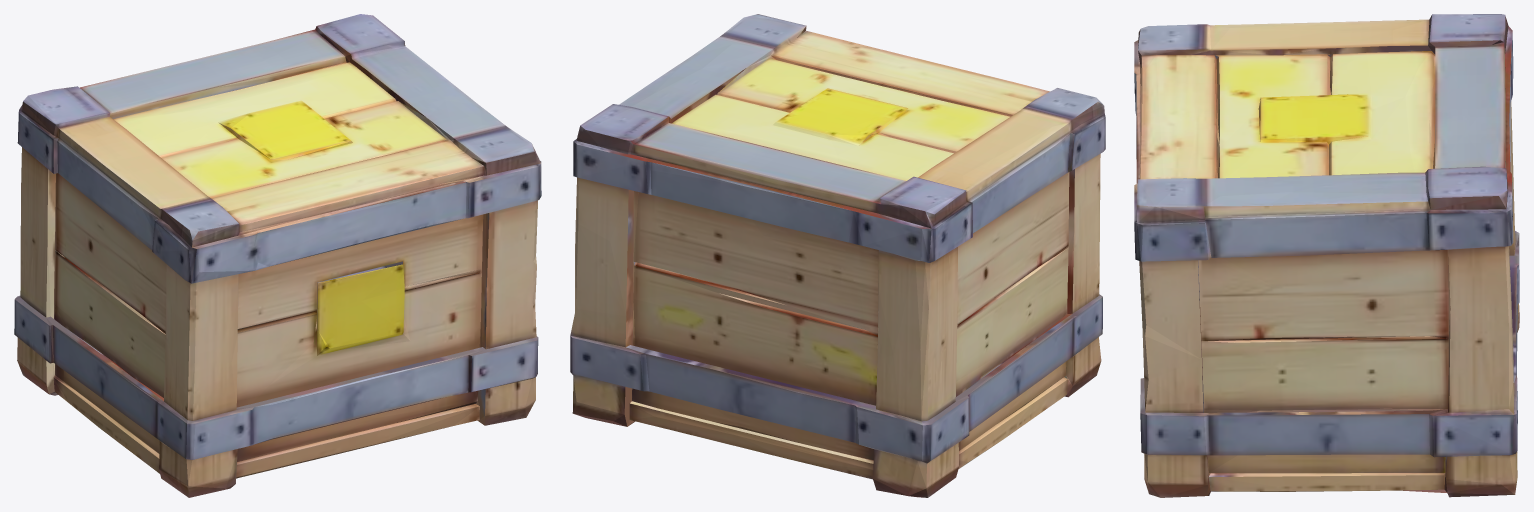
File: crate.glb
3 renders of one model, left to right at view 1: azimuth 30°, elevation 25°; view 2: azimuth 150°, elevation 25°; view 3: azimuth 270°, elevation 25°, orthographic. The views are drawn at different scales.
Visible parts, largest first — view 1: figure; view 2: figure; view 3: figure.
Part boxes in pixels (box(x1,y1,x2,y2)): figure: box(14, 14, 541, 497); figure: box(570, 14, 1105, 497); figure: box(1134, 14, 1519, 497).
Size of the model in its own units: 1.31 by 1 by 1.14.
Materials: 1 (1 with a texture image).
